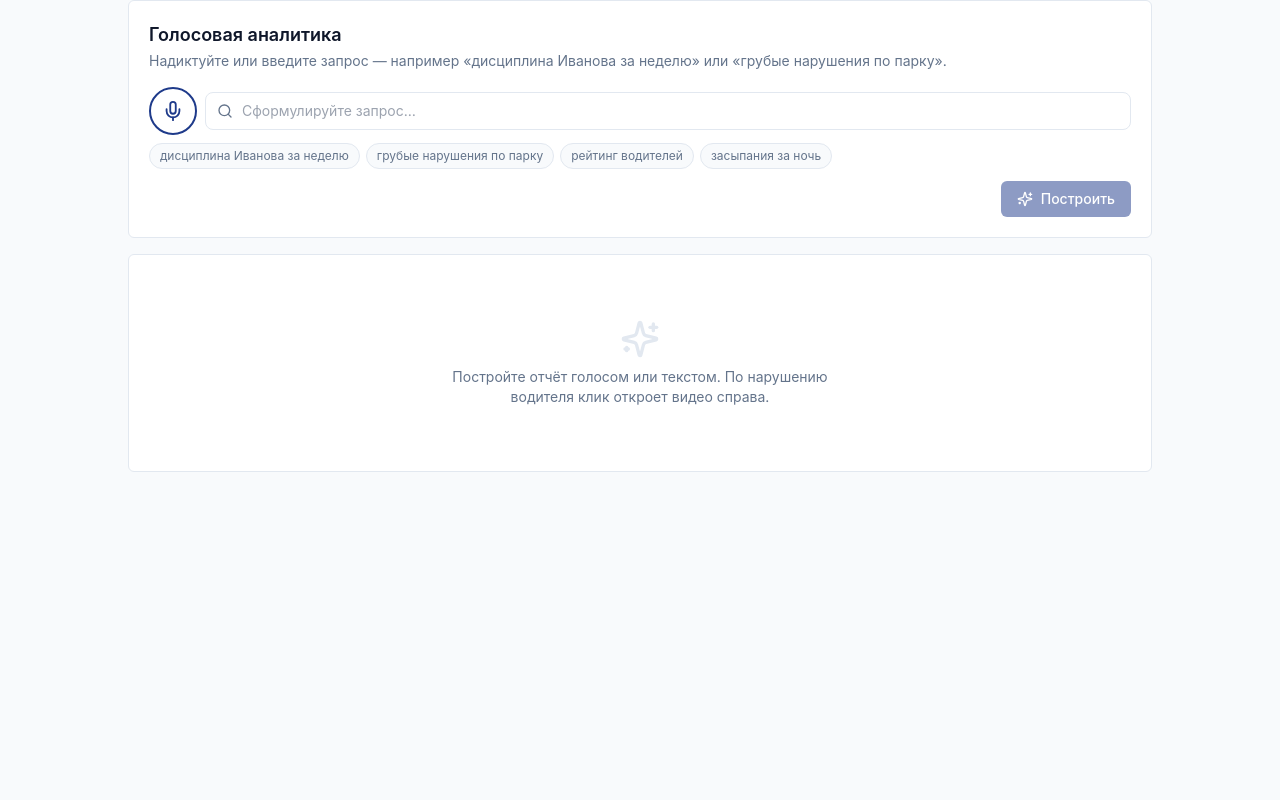
it: f7 · Report — поток и каналы › текст → ConfirmationModal → подтверждение → дашборд водителя
Type "дисциплина Иванова за неделю" into the search field.
click(668, 111); type("дисциплина Иванова за неделю")  # box [205,92,1131,130]
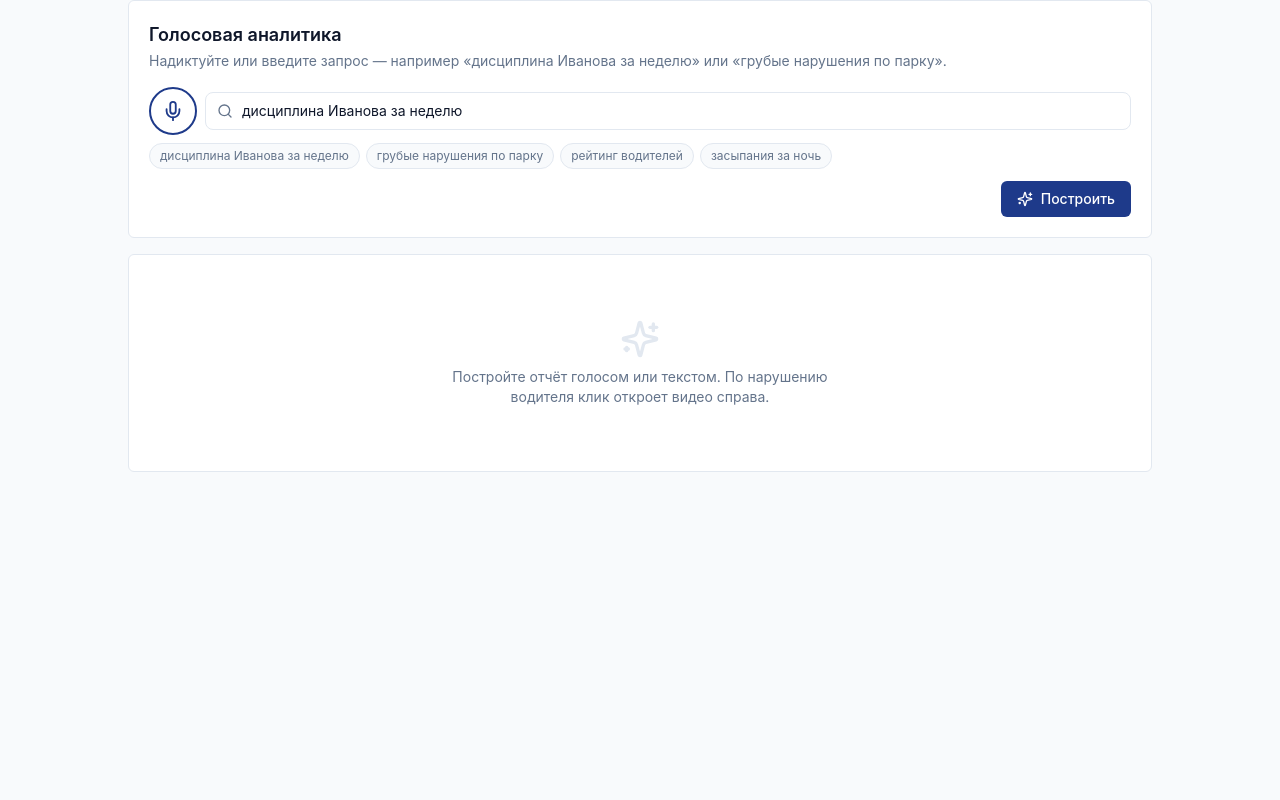
Click the button "Построить".
click(1066, 199)  # box [1001,181,1131,217]
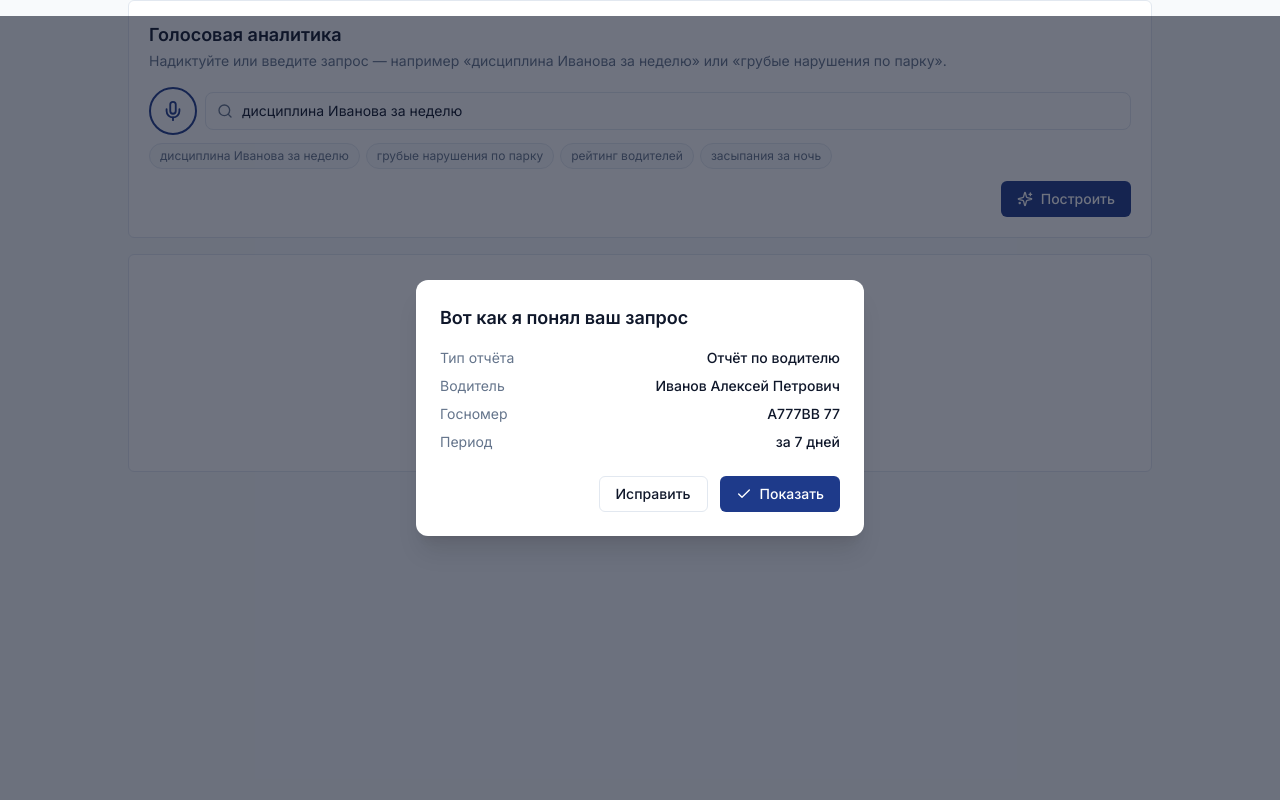
Check: the heading "Вот как я понял ваш запрос" is shown, box [440,307,688,328]
Check: the text "Отчёт по водителю" is shown, box [707,348,840,368]
Click the button "Показать".
click(780, 494)  # box [720,476,840,512]
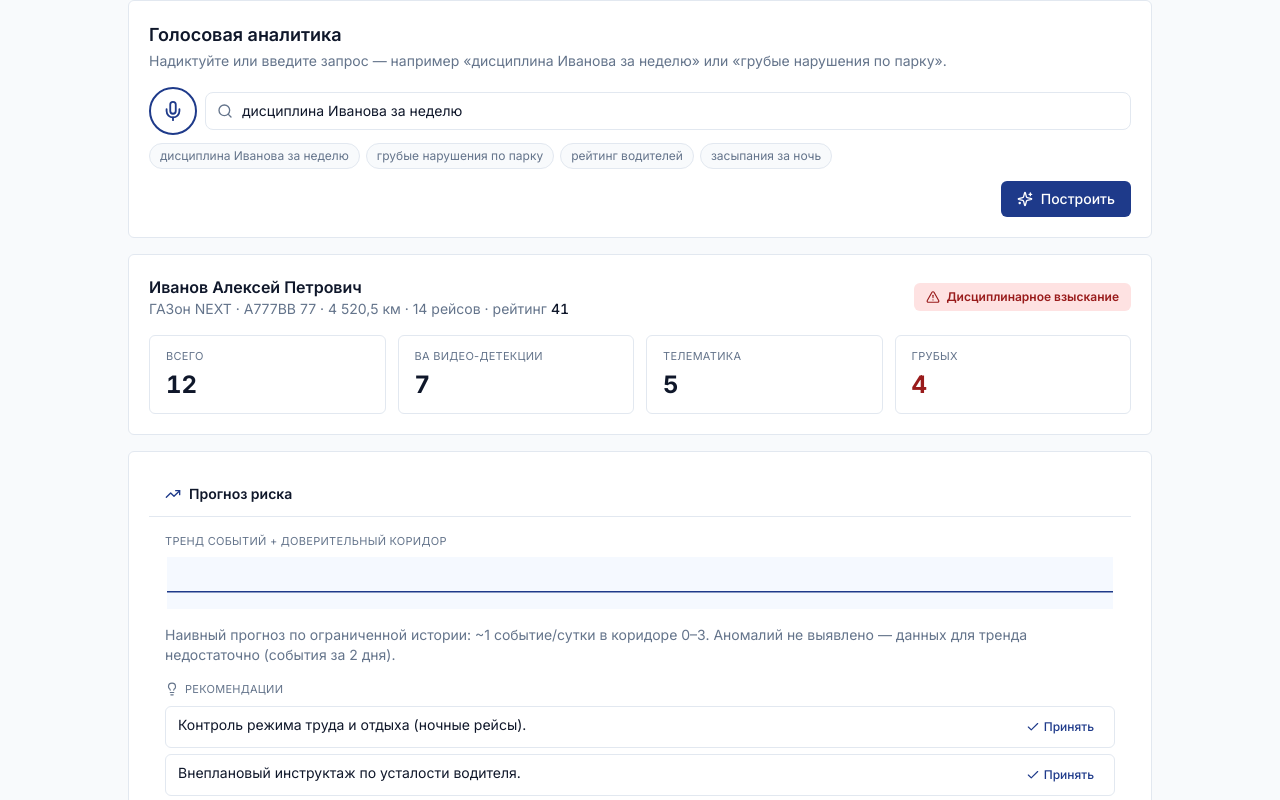
Check: the heading "Иванов Алексей Петрович" is shown, box [149,277,362,297]
Check: the text "Дисциплинарное взыскание" is shown, box [914,283,1131,311]
